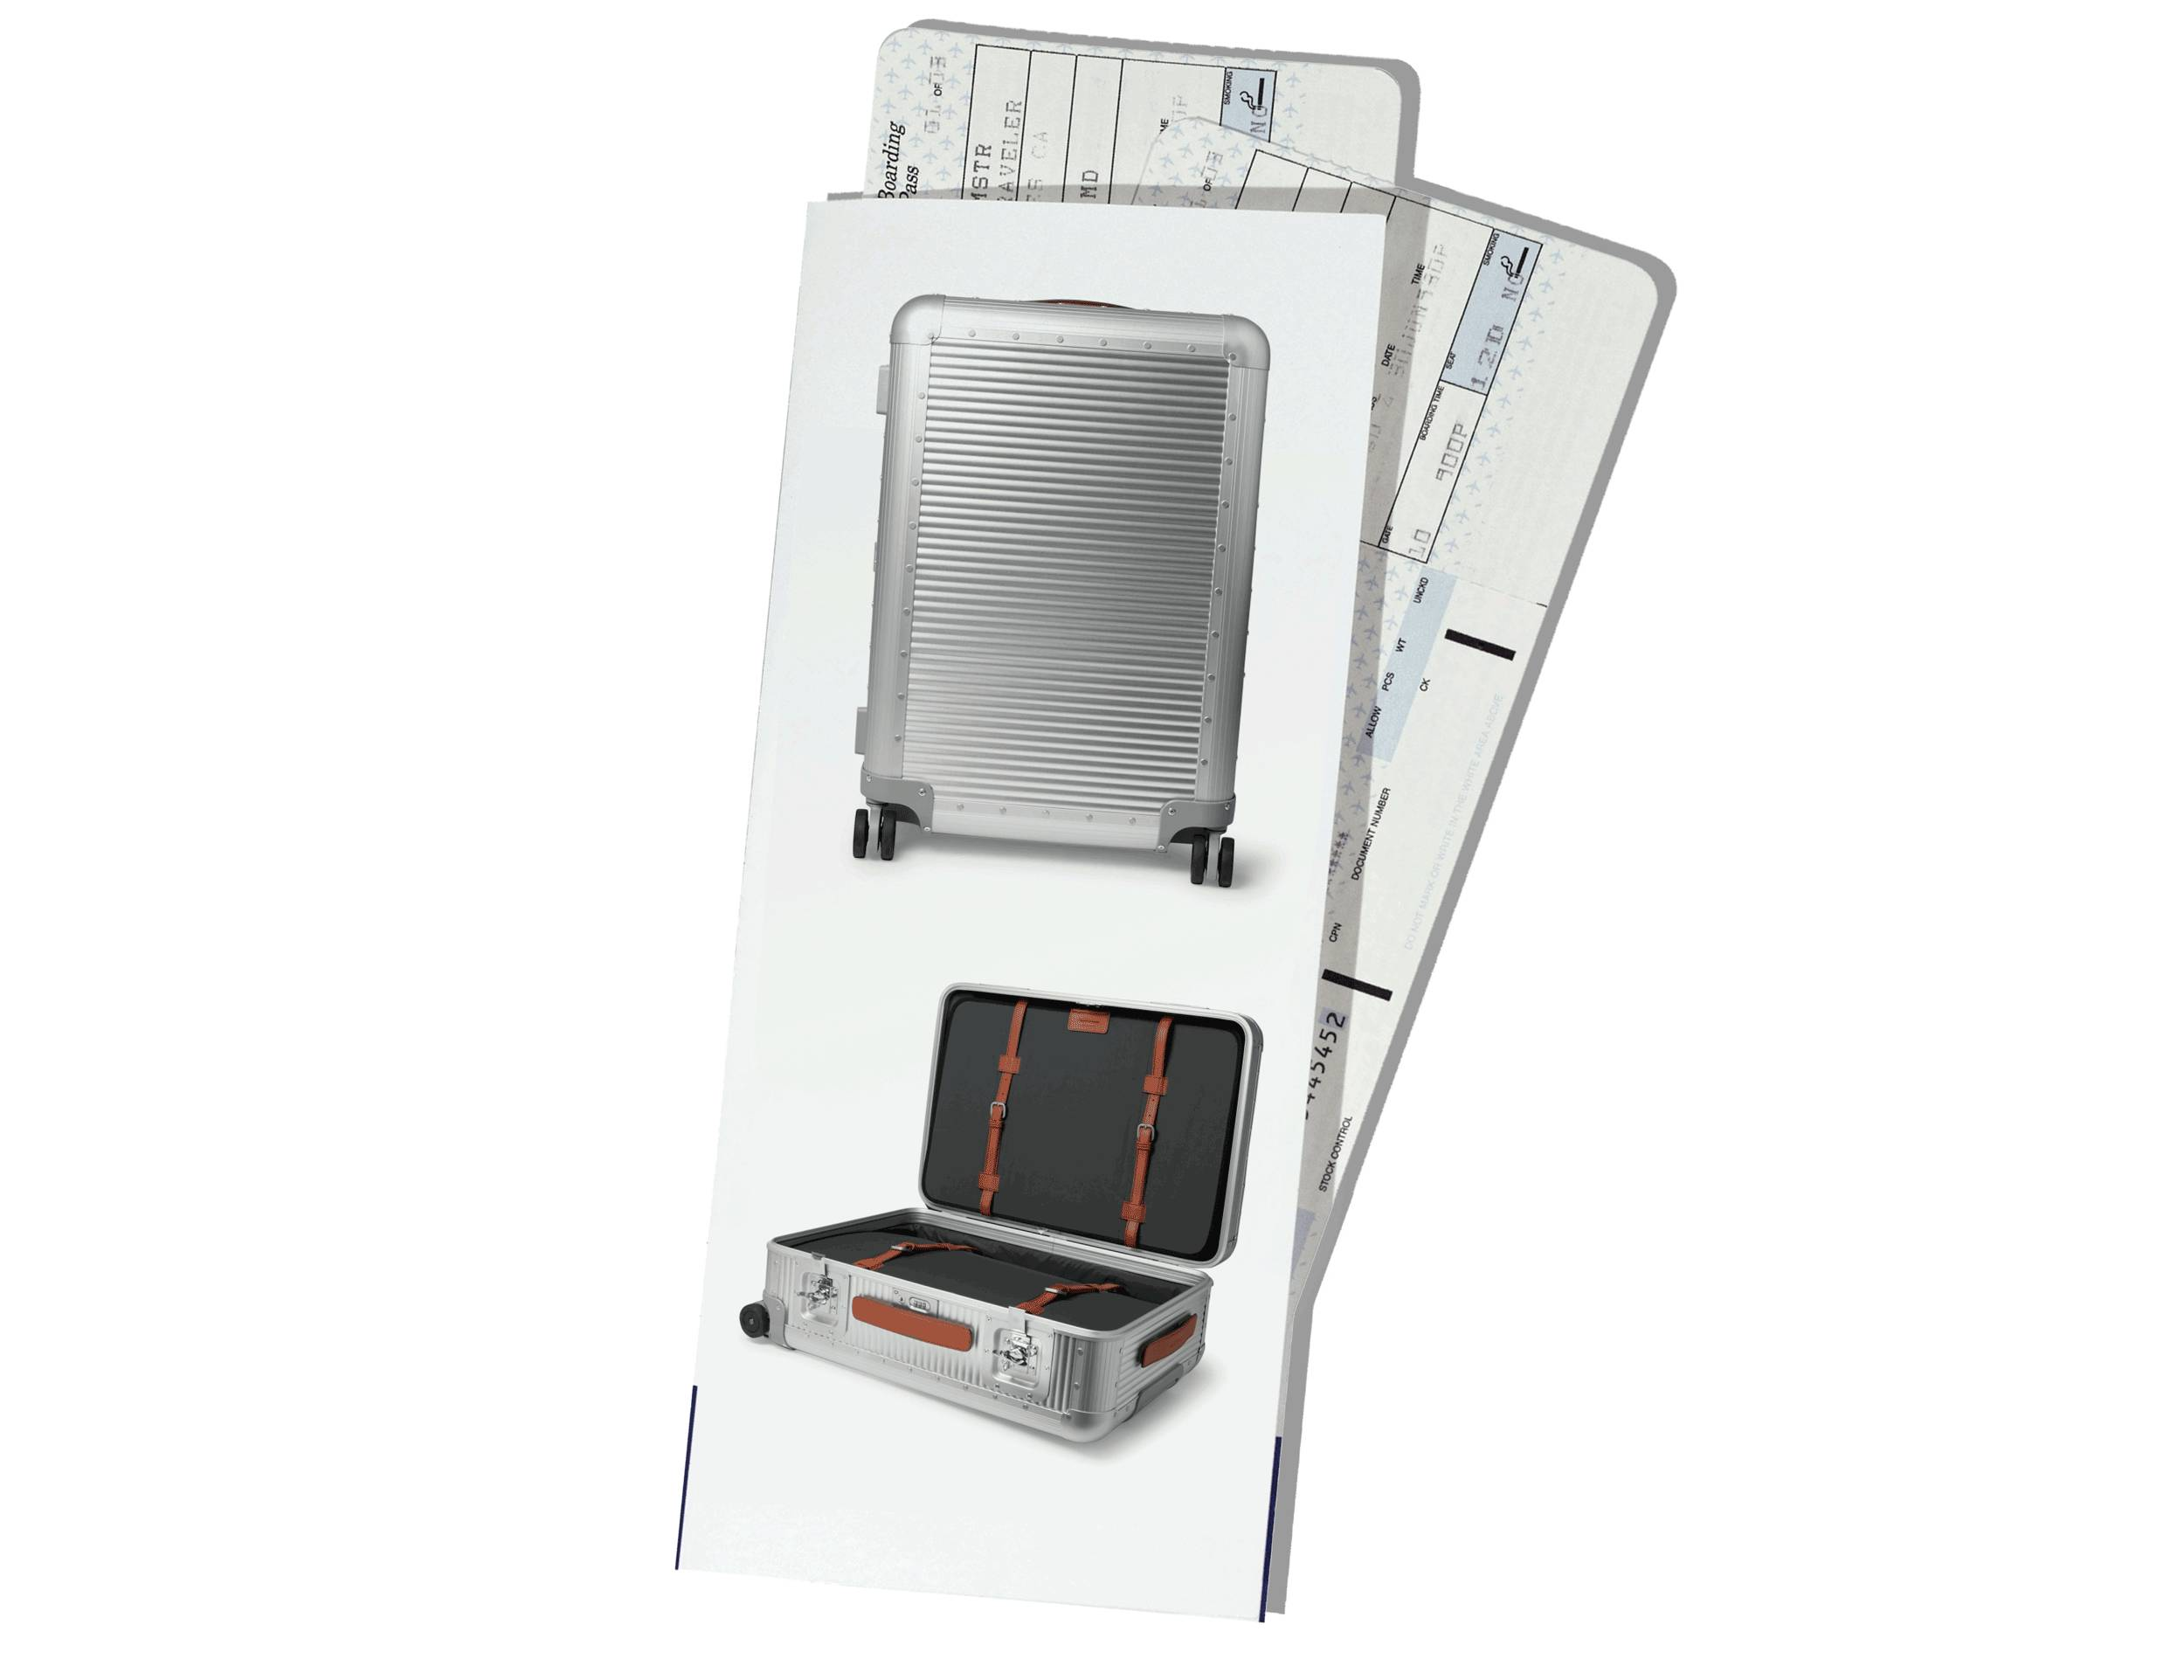suitcase: (849, 288, 1268, 895)
